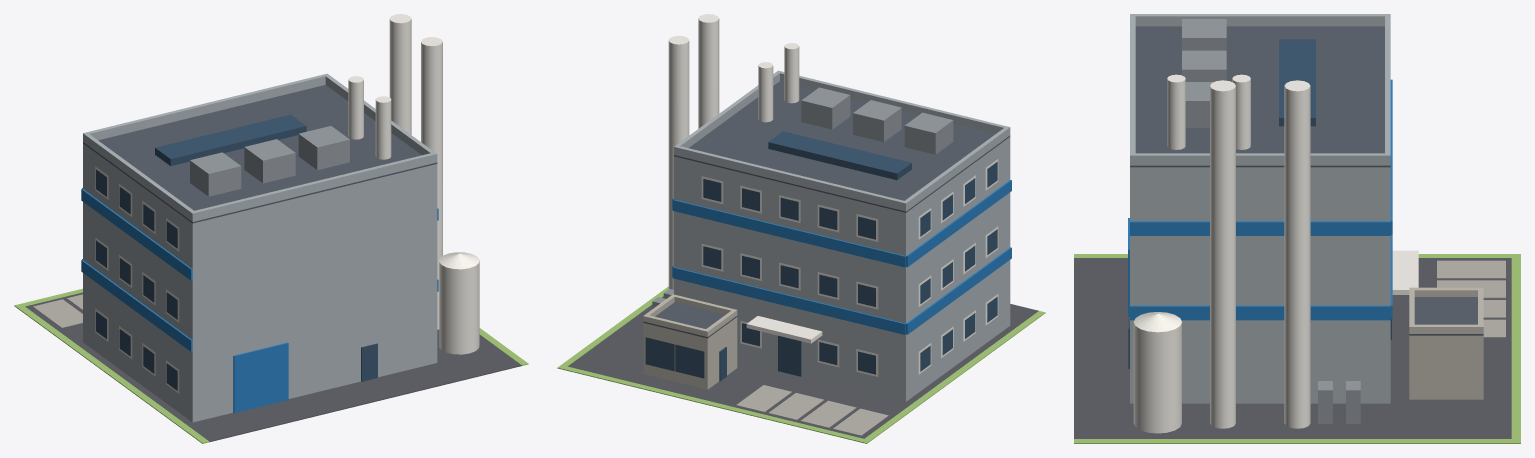
3 views of the same model, side by side, from view 1: azimuth 30°, elevation 25°; view 2: azimuth 150°, elevation 25°; view 3: azimuth 270°, elevation 25° (orthographic). The views are drawn at different scales.
Visible parts, largest first — view 1: wall, roof, asphalt, parapet (×4), smoke_stack (×4), ac_unit (×3), tank, garage_door, roof_light, panel (×2), lawn, parking_bay (+2 smaller); view 2: wall, roof (×2), asphalt, panel (×4), parapet (×6), smoke_stack (×4), ac_unit (×3), lawn (×3), parking_bay (×4), gatehouse, roof_light, window_band (×2) (+2 smaller); view 3: wall, asphalt, roof (×2), smoke_stack (×4), parapet (×6), panel (×3), tank, gatehouse, lawn (×3), ac_unit (×3), parking_bay (×3), roof_light (+3 smaller).
Part boxes in pixels (<box>): wall: <box>83,143,437,422</box>; roof: <box>83,85,437,223</box>; asphalt: <box>25,292,521,442</box>; parapet (×4): <box>83,73,437,221</box>; smoke_stack (×4): <box>348,14,442,329</box>; ac_unit (×3): <box>190,126,349,196</box>; tank: <box>439,260,479,354</box>; garage_door: <box>233,342,288,412</box>; roof_light: <box>155,114,306,165</box>; panel (×2): <box>81,188,192,351</box>; lawn: <box>14,304,209,443</box>; parking_bay: <box>33,299,82,327</box>; wall: <box>674,137,1010,401</box>; roof (×2): <box>643,81,1010,338</box>; asphalt: <box>568,296,1038,438</box>; panel (×4): <box>673,180,1011,334</box>; parapet (×6): <box>643,70,1010,336</box>; smoke_stack (×4): <box>668,14,799,289</box>; ac_unit (×3): <box>801,87,953,154</box>; lawn (×3): <box>557,286,1045,443</box>; parking_bay (×4): <box>736,385,888,435</box>; gatehouse: <box>643,317,737,389</box>; roof_light: <box>768,131,911,180</box>; window_band (×2): <box>645,337,704,378</box>; wall: <box>1130,167,1390,403</box>; asphalt: <box>1074,258,1511,438</box>; roof (×2): <box>1130,26,1483,335</box>; smoke_stack (×4): <box>1167,74,1310,428</box>; parapet (×6): <box>1130,14,1477,333</box>; panel (×3): <box>1130,79,1392,320</box>; tank: <box>1133,322,1181,433</box>; gatehouse: <box>1409,335,1483,399</box>; lawn (×3): <box>1074,254,1520,443</box>; ac_unit (×3): <box>1182,19,1226,127</box>; parking_bay (×3): <box>1437,260,1505,337</box>; roof_light: <box>1279,39,1315,126</box>.
Bounding box in the file's own units: 24 × 20.06 × 24.
